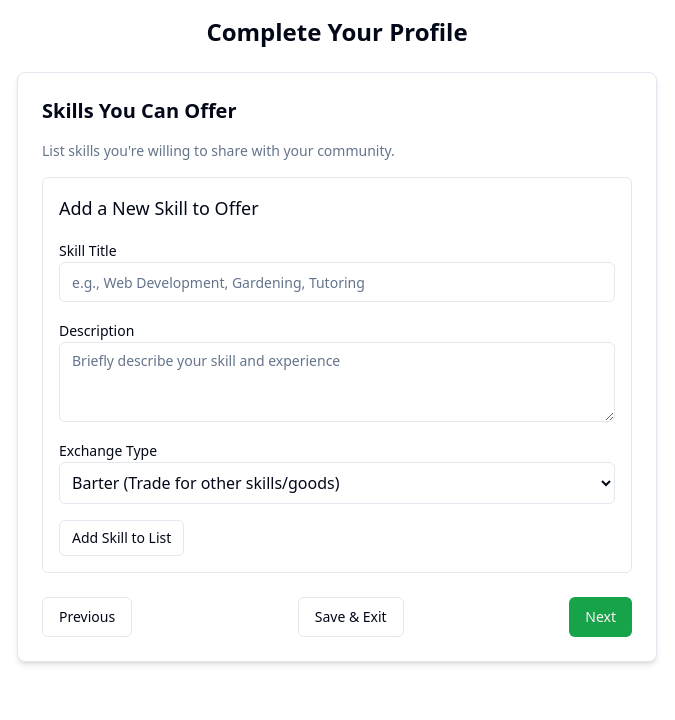
Profile Setup Wizard (MPP Task 2.2.1) › should navigate from Skills Offered step to Skills Needed step when clicking Next
The image size is (675, 720).
Expected: the heading "Skills You Can Offer" is shown, [42,97,236,124]
Step 1. Type "Gardening" into the field labelled "Skill Title" → x=337, y=282, box [59,262,615,302]
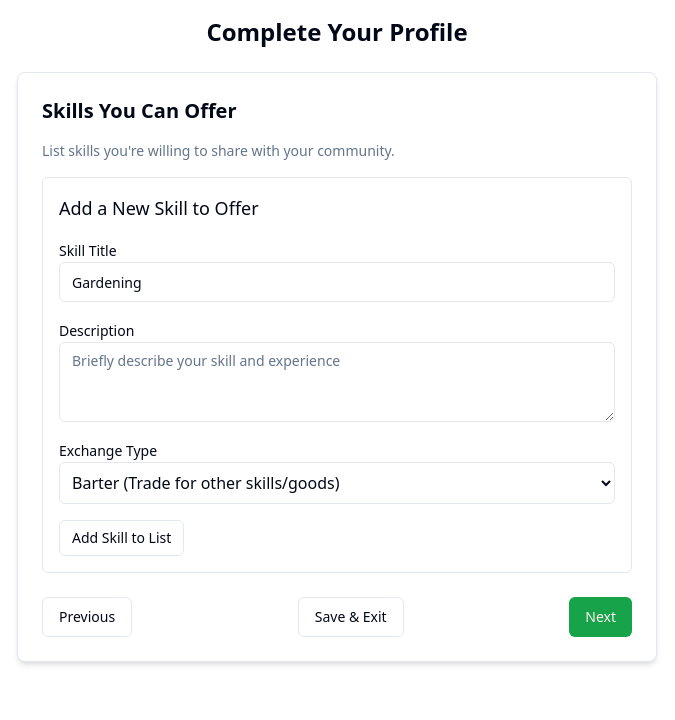
Step 2. Type "Expert gardener with 5 years experience" into the text box labelled "Description" → x=337, y=382, box [59,342,615,422]
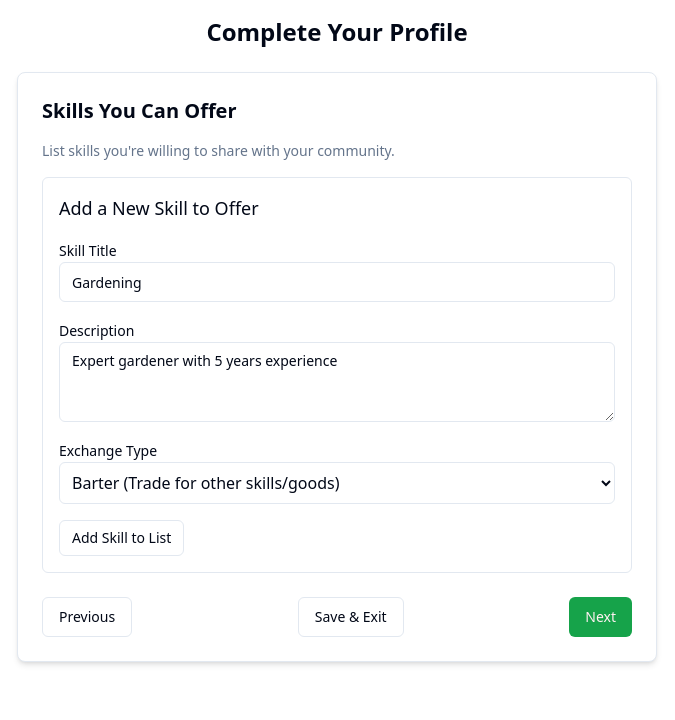
Step 3. Click the button "Add Skill to List" → x=122, y=538, box [59,520,184,556]
(page scrolled)
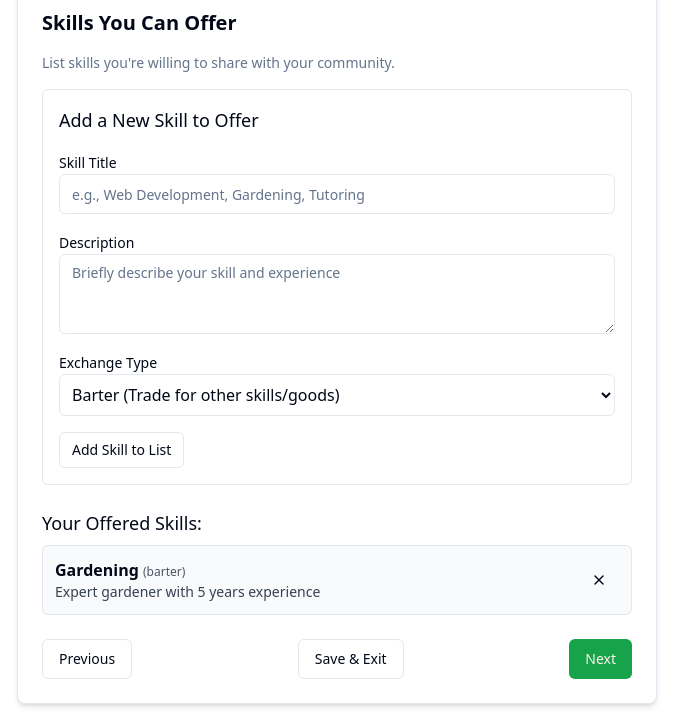
Expected: the text "Gardening" is shown, [55,559,139,581]
Step 4. Click the button "Next" → x=601, y=659, box [569,639,632,679]
(page scrolled)
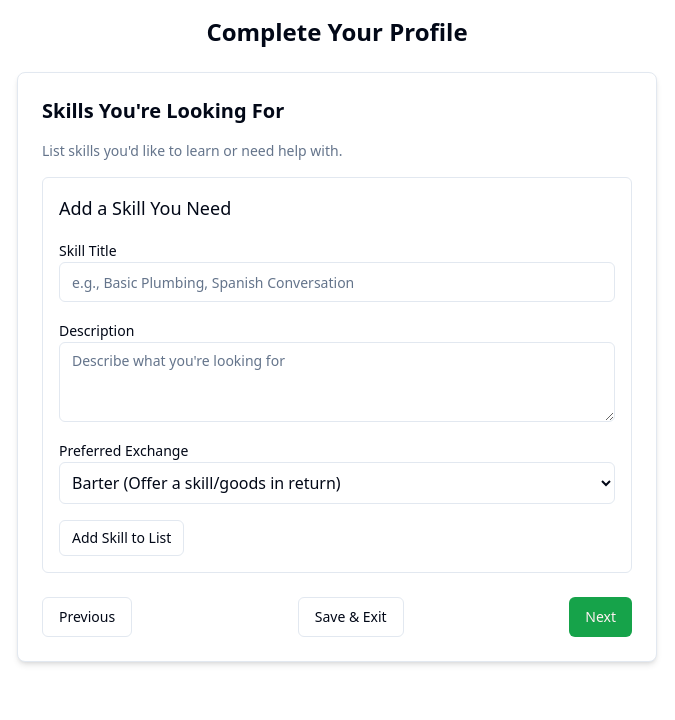
Expected: the heading "Skills You're Looking For" is shown, [42,97,284,124]
